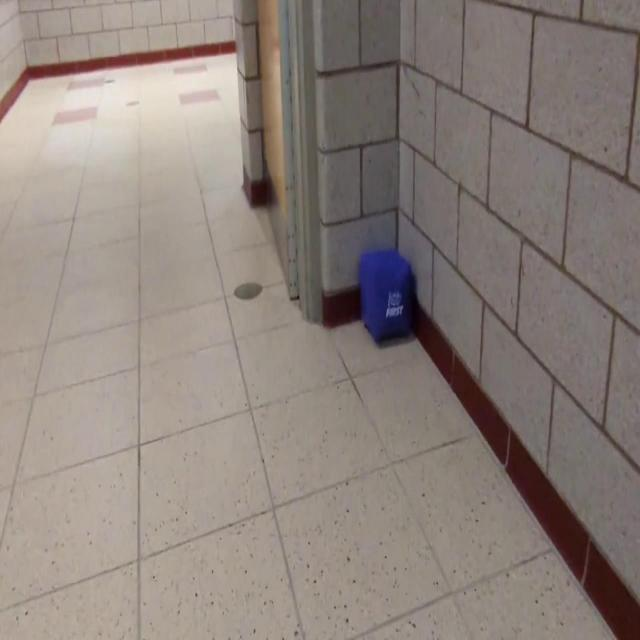frc_cube: (360, 249, 412, 347)
